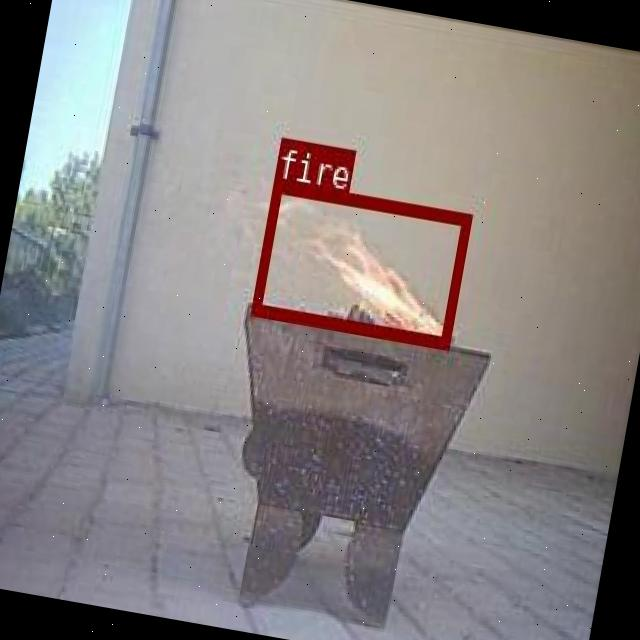fire: (249, 178, 470, 348)
